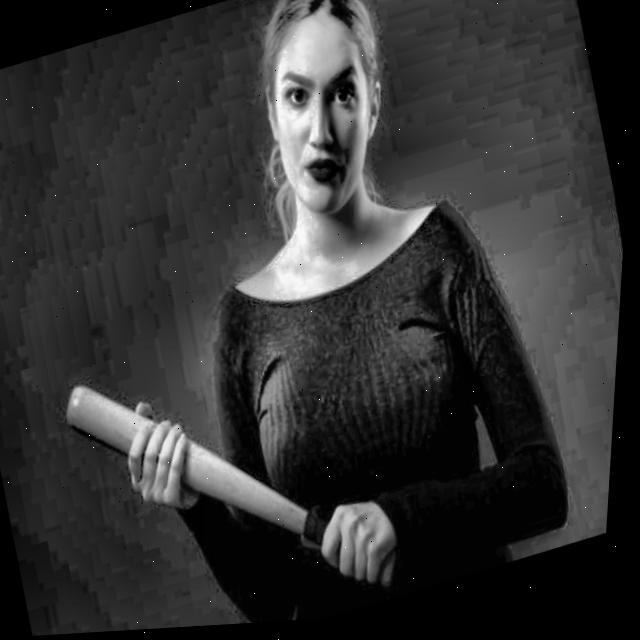tongkat pemukul: (54, 373, 430, 592)
